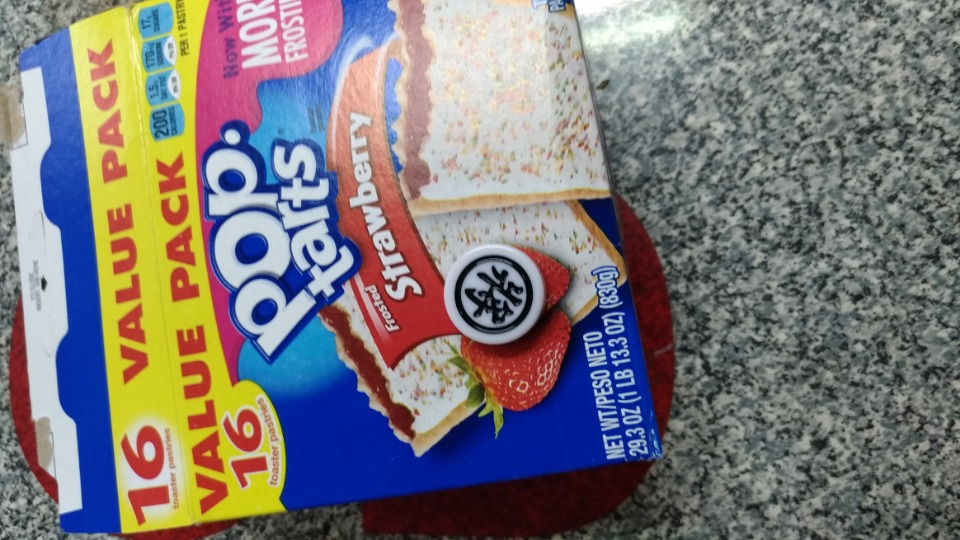b-king: (425, 235, 573, 362)
